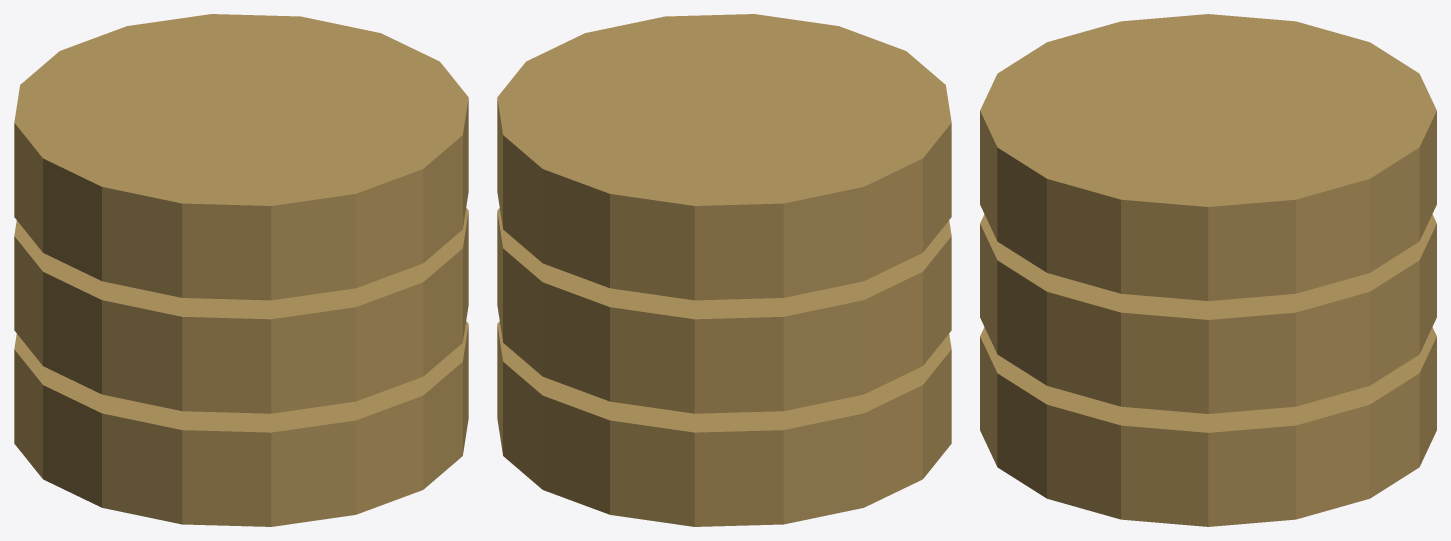
File: pickup_rope.glb
3 renders of one model, left to right at view 1: azimuth 30°, elevation 25°; view 2: azimuth 150°, elevation 25°; view 3: azimuth 270°, elevation 25°, orthographic.
Parts seen in each view (by area): view 1: PICKUP_Rope; view 2: PICKUP_Rope; view 3: PICKUP_Rope.
Boxes of the visible parts, x1=… form: PICKUP_Rope: x1=14, y1=14, x2=468, y2=526; PICKUP_Rope: x1=497, y1=14, x2=951, y2=526; PICKUP_Rope: x1=980, y1=14, x2=1436, y2=526.
Bounding box in the file's own units: 0.22 × 0.17 × 0.22.
